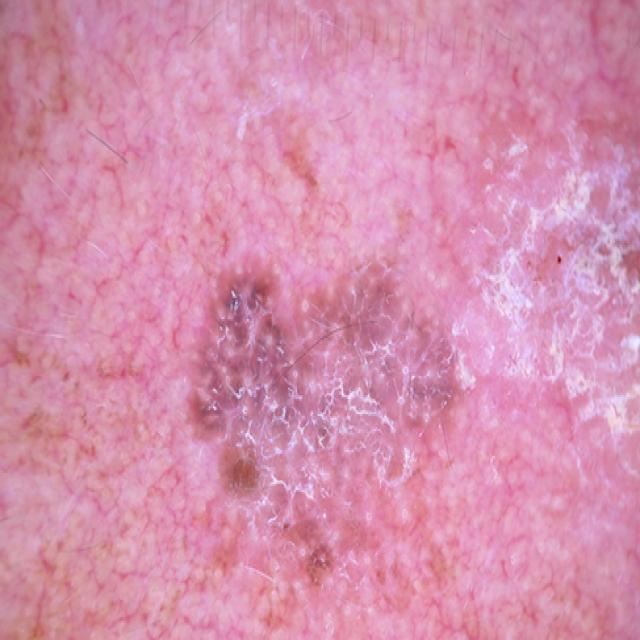Keratosis: (157, 225, 448, 582), (491, 162, 640, 445)
